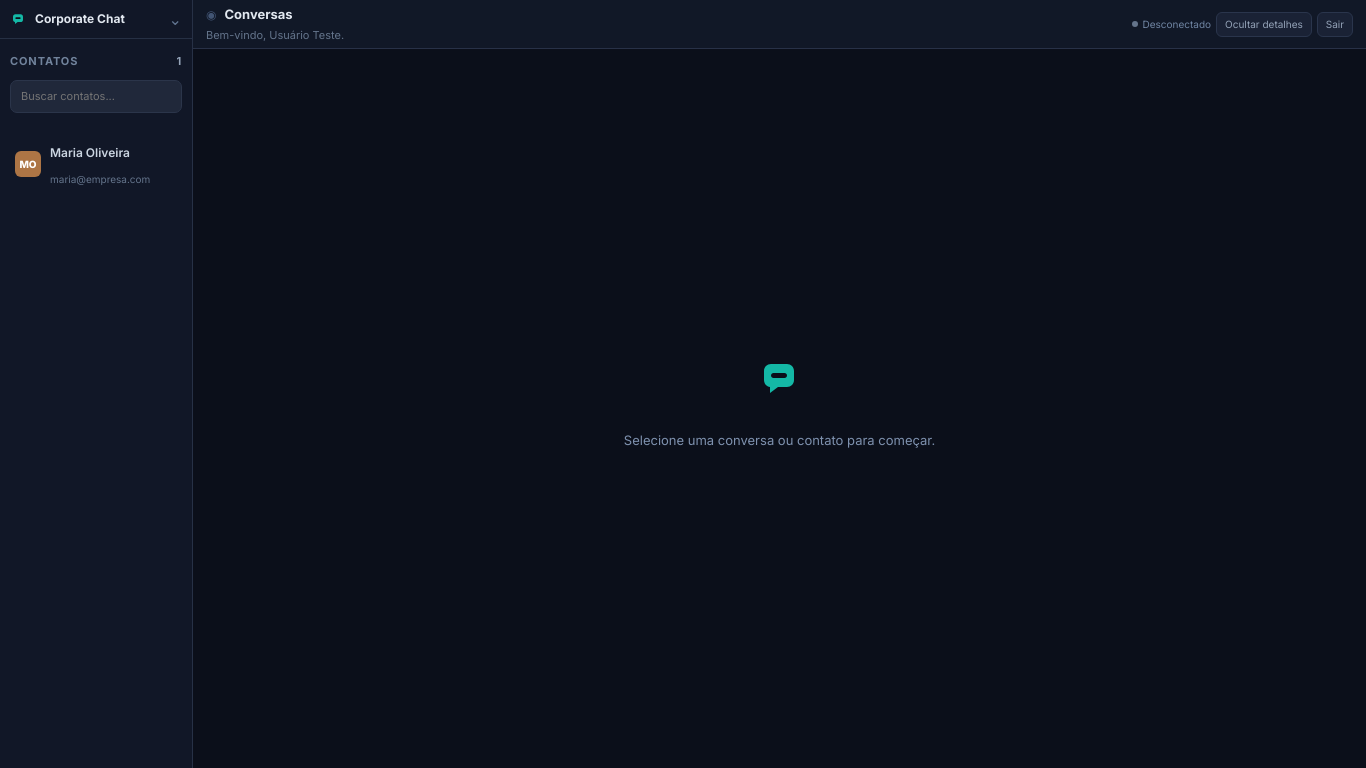
deve apresentar erro ao abrir conversa privada
Click the button with aria-label "Abrir conversa com Maria Oliveira" at (96, 164), box [8, 125, 184, 203]
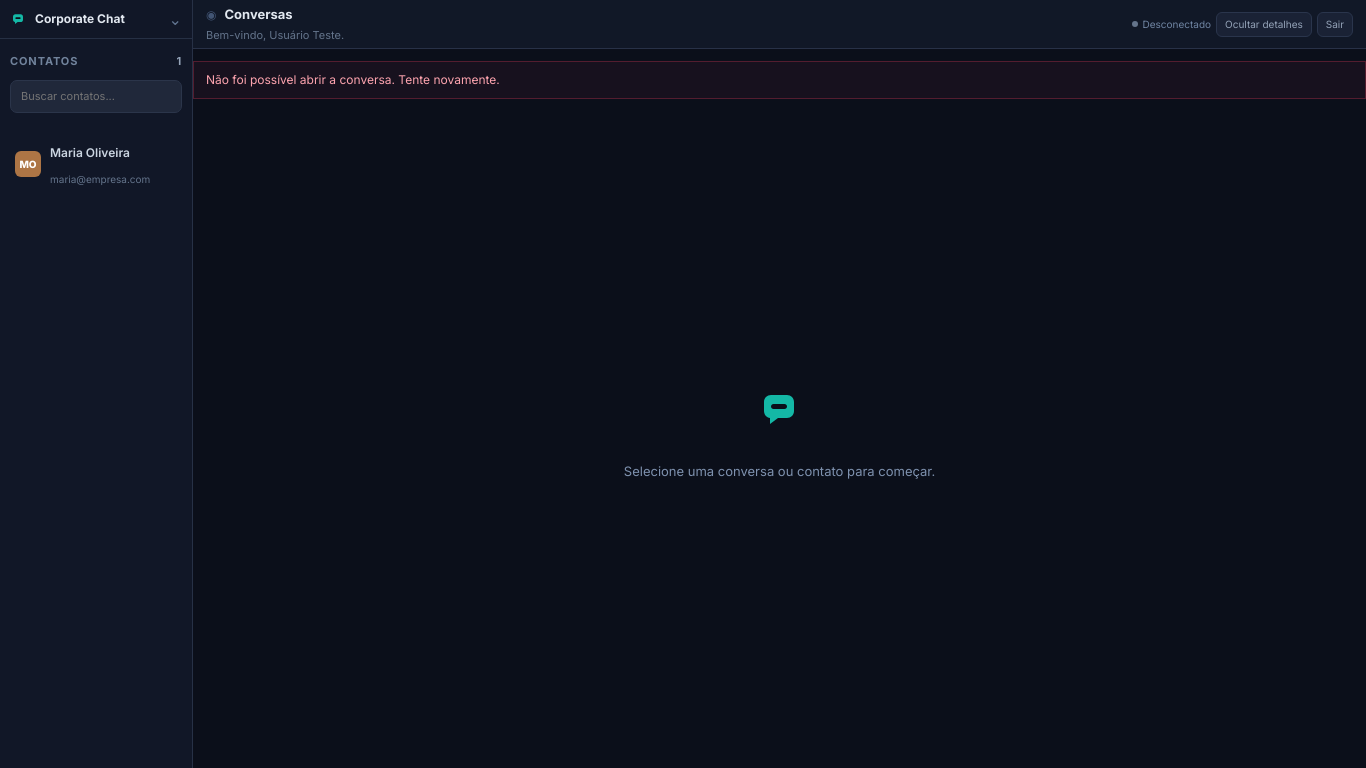
Now the message "Não foi possível abrir a conversa. Tente novamente." is shown, box [193, 61, 1365, 99]
